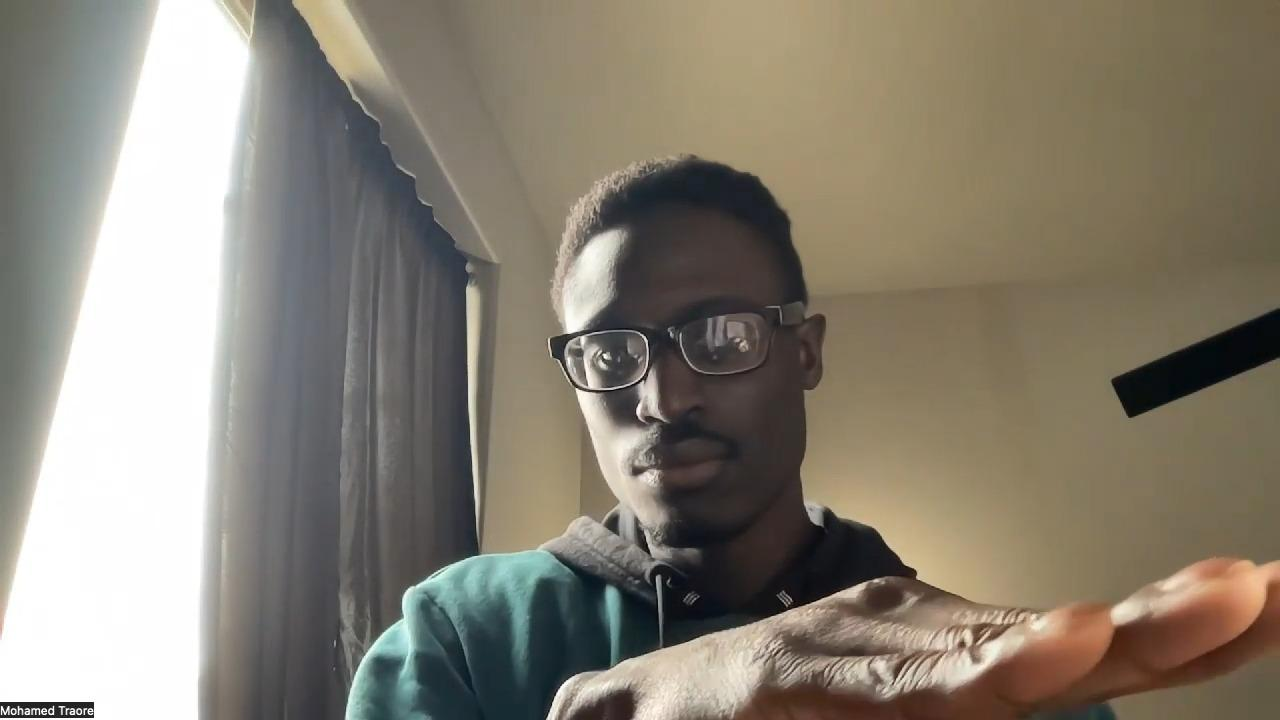Paper: (573, 555, 1280, 720)
